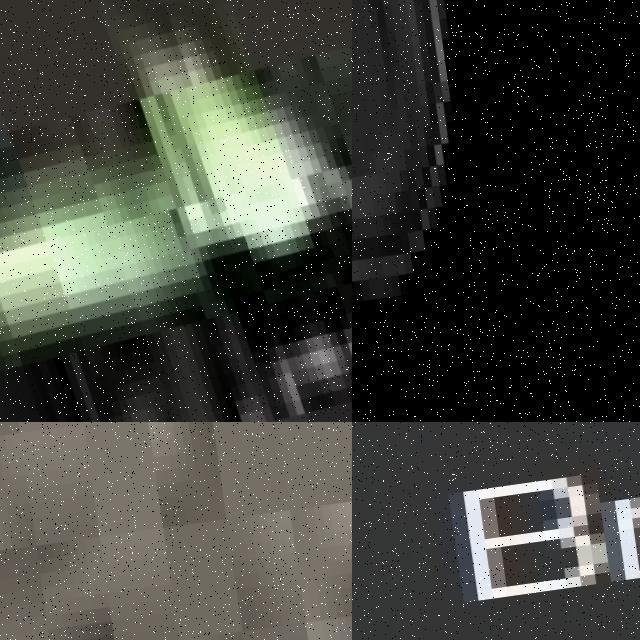drone: (0, 0, 352, 422)
